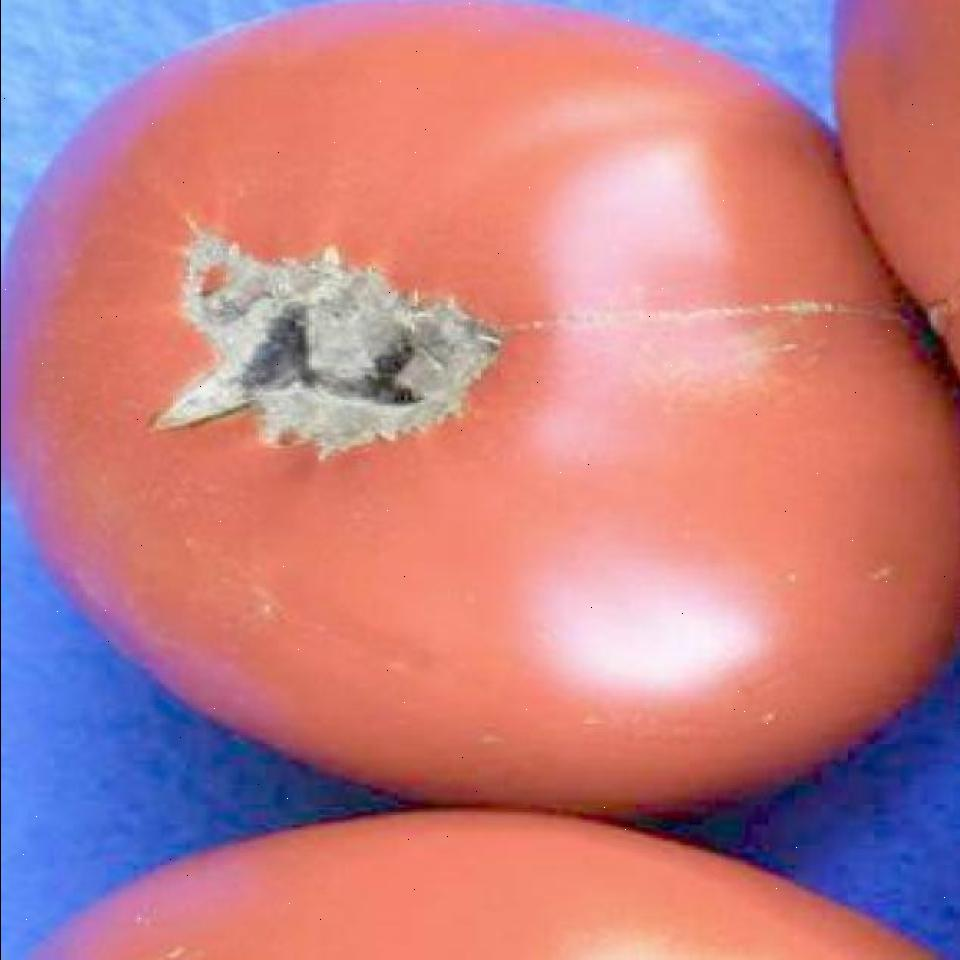Blossom_end_rot: (135, 206, 507, 464)
